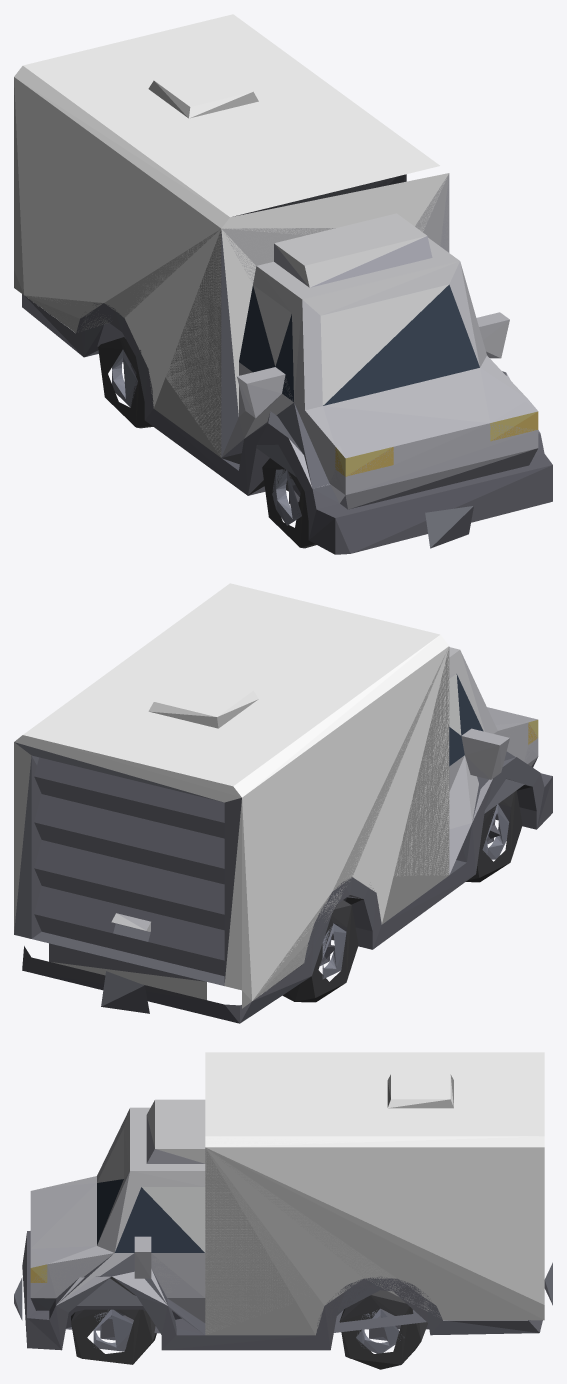
Rendered from vehicle.truck.glb.
The picture shows the model from 3 angles, top to bottom: view 1: azimuth 30°, elevation 25°; view 2: azimuth 150°, elevation 25°; view 3: azimuth 270°, elevation 25°; orthographic projection. The views are drawn at different scales.
Parts seen in each view (by area): view 1: near, far; view 2: near, far; view 3: near, far.
Boxes of the visible parts, <box> form: near: <box>14,14,552,554</box>; far: <box>24,174,539,491</box>; near: <box>14,583,552,1023</box>; far: <box>32,648,537,998</box>; near: <box>14,1052,552,1369</box>; far: <box>31,1136,542,1334</box>.
Bounding box in the file's own units: 2.3 × 2.53 × 4.98.
